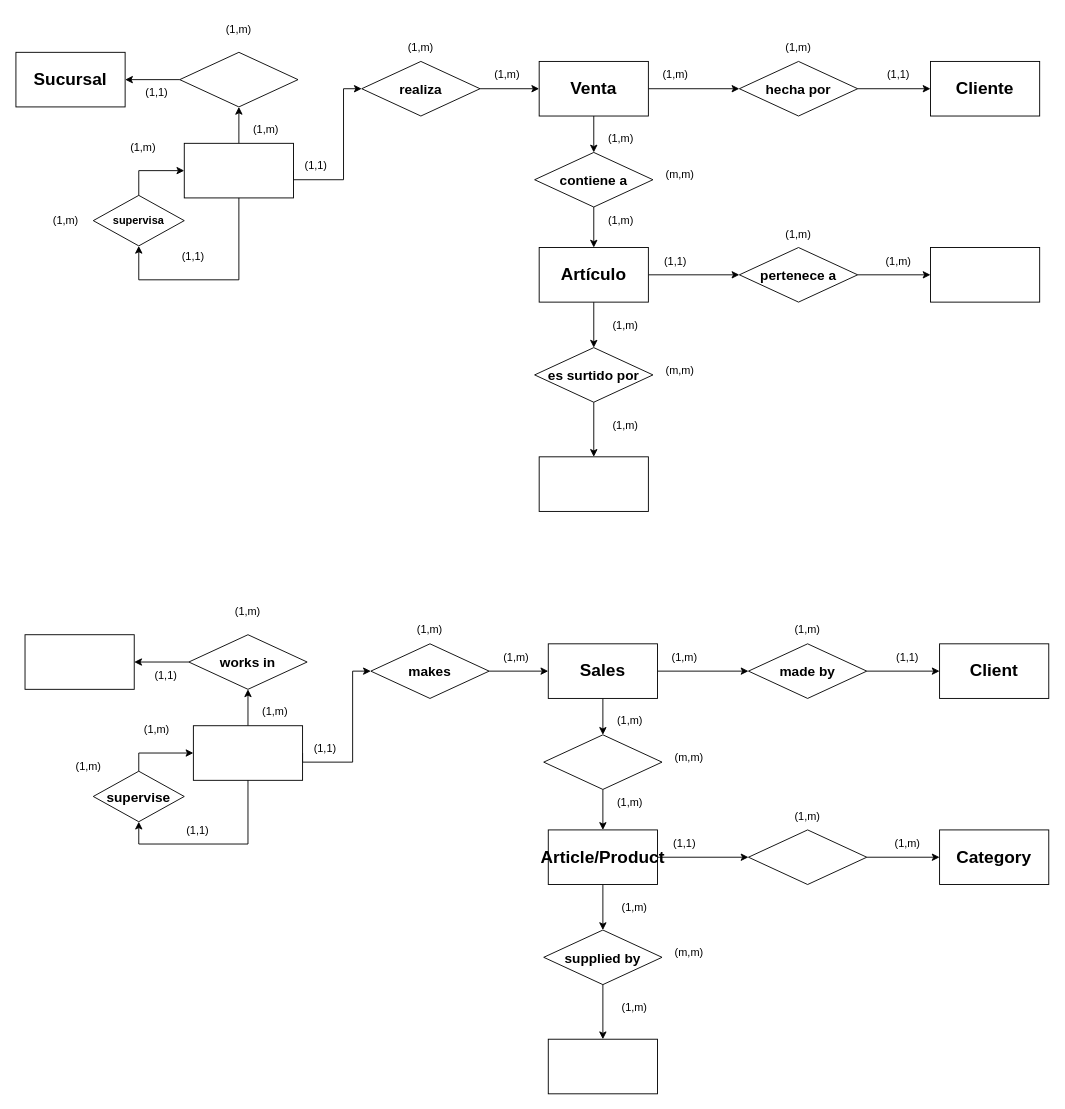
The diagram is 1065 pixels wide and 1109 high, and some of its shapes have lost their labels. Here are the shapes that lost their labels. From the top down, the centre of each, then its label:
point (238, 79): trabaja en
point (238, 170): Empleado
point (985, 274): Categoría
point (593, 483): Proveedor
point (79, 661): Branch Office
point (247, 752): Employee
point (602, 761): contains
point (807, 857): belongs to
point (602, 1066): Supplier
